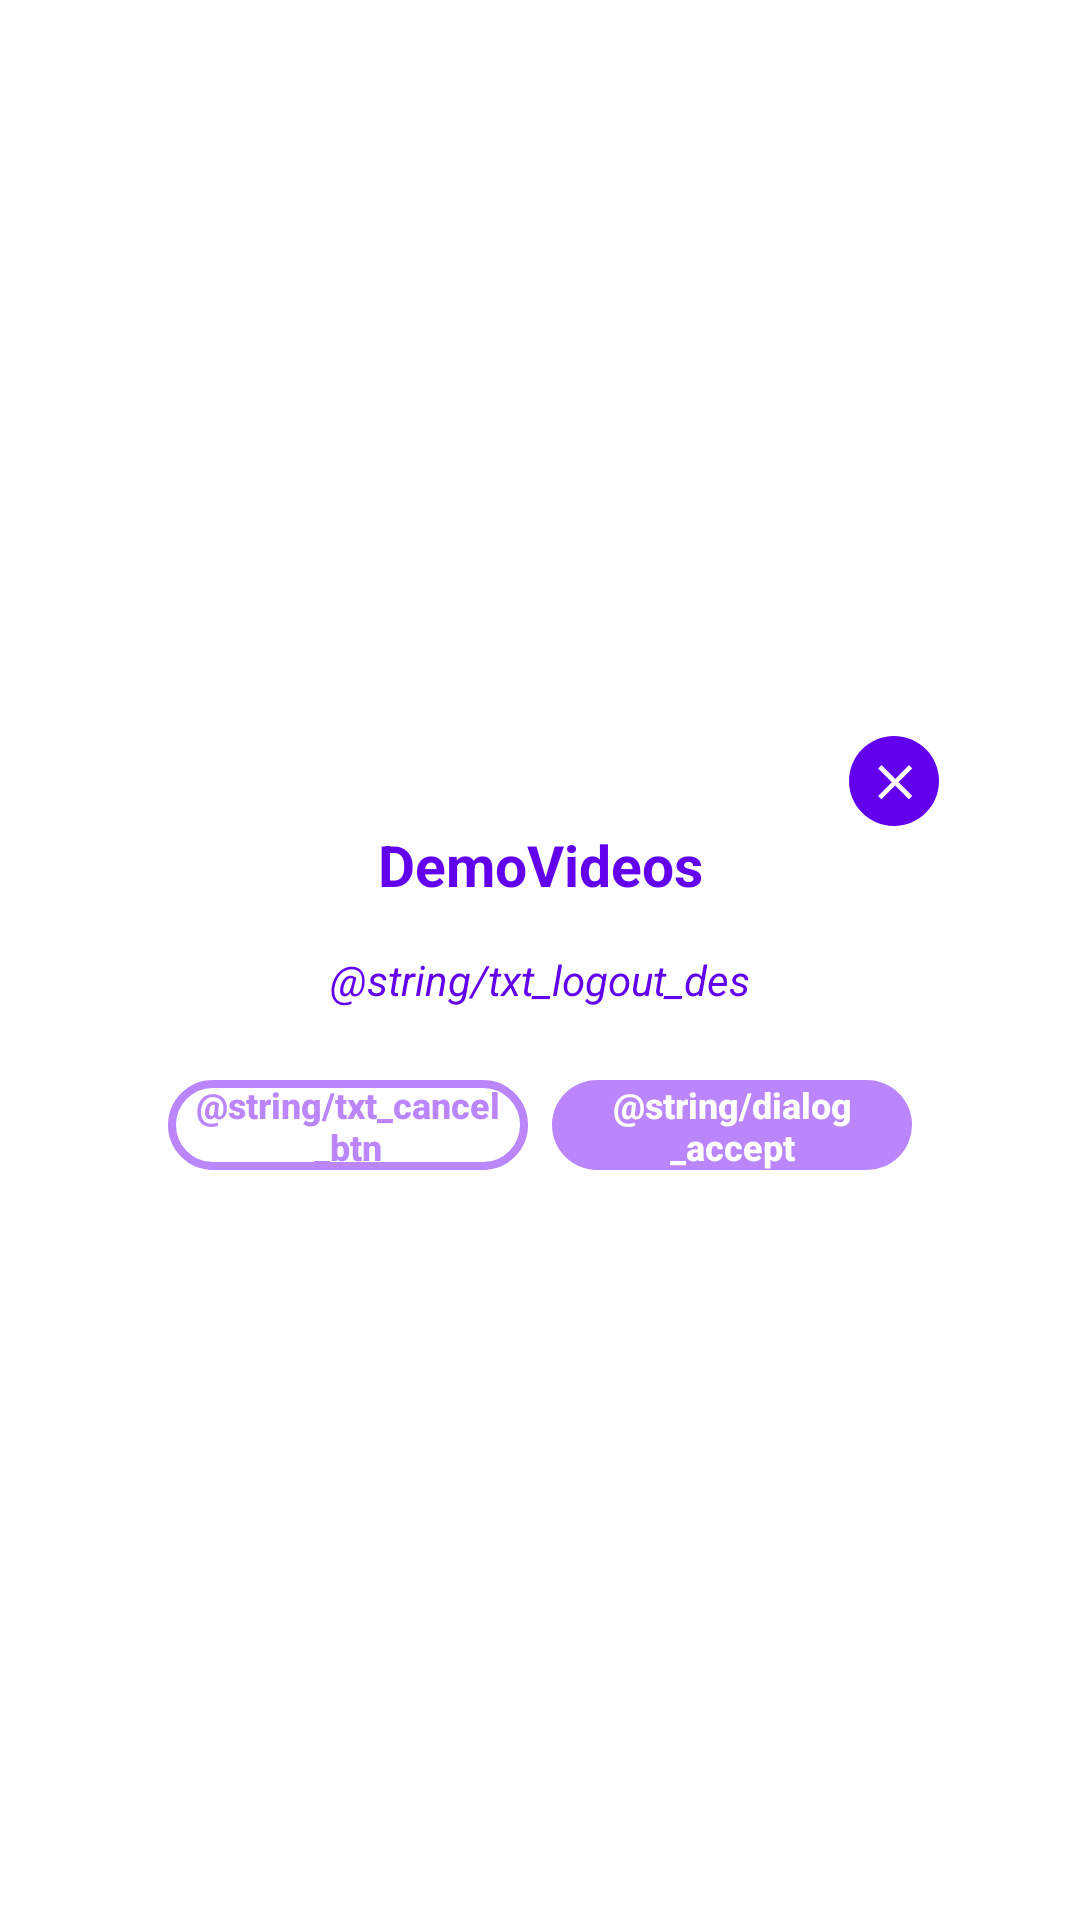

Icon bounding boxes for this 1080x1920 phone screenshot, format (x1, y1, x2, y2):
close: (849, 736, 939, 826)
